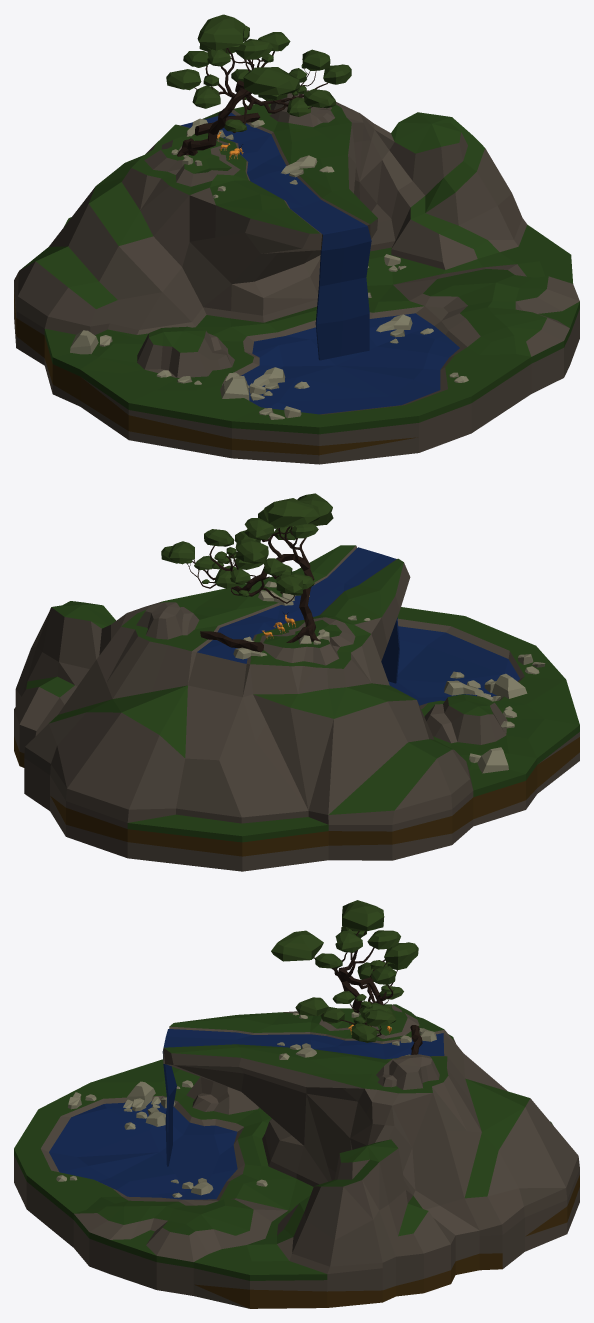
File: WF_lowpoly_fbx.FBX
3 renders of one model, top to bottom at view 1: azimuth 30°, elevation 25°; view 2: azimuth 150°, elevation 25°; view 3: azimuth 270°, elevation 25°, orthographic. The views are drawn at different scales.
Visible parts, largest first — view 1: waterfall, tree_01, rock_01; view 2: waterfall, tree_01, rock_01, tree_02; view 3: waterfall, tree_01, rock_01.
Boxes of the visible parts, x1,y1,x2,y2 form: waterfall: (14,90,579,464); tree_01: (166,14,351,156); rock_01: (70,118,468,419); waterfall: (14,545,579,871); tree_01: (161,493,333,642); rock_01: (233,581,545,773); tree_02: (200,631,263,652); waterfall: (14,1004,579,1308); tree_01: (271,900,418,1042); rock_01: (56,1012,436,1197).
Bounding box in the file's own units: 68.25 × 39.09 × 73.21.
